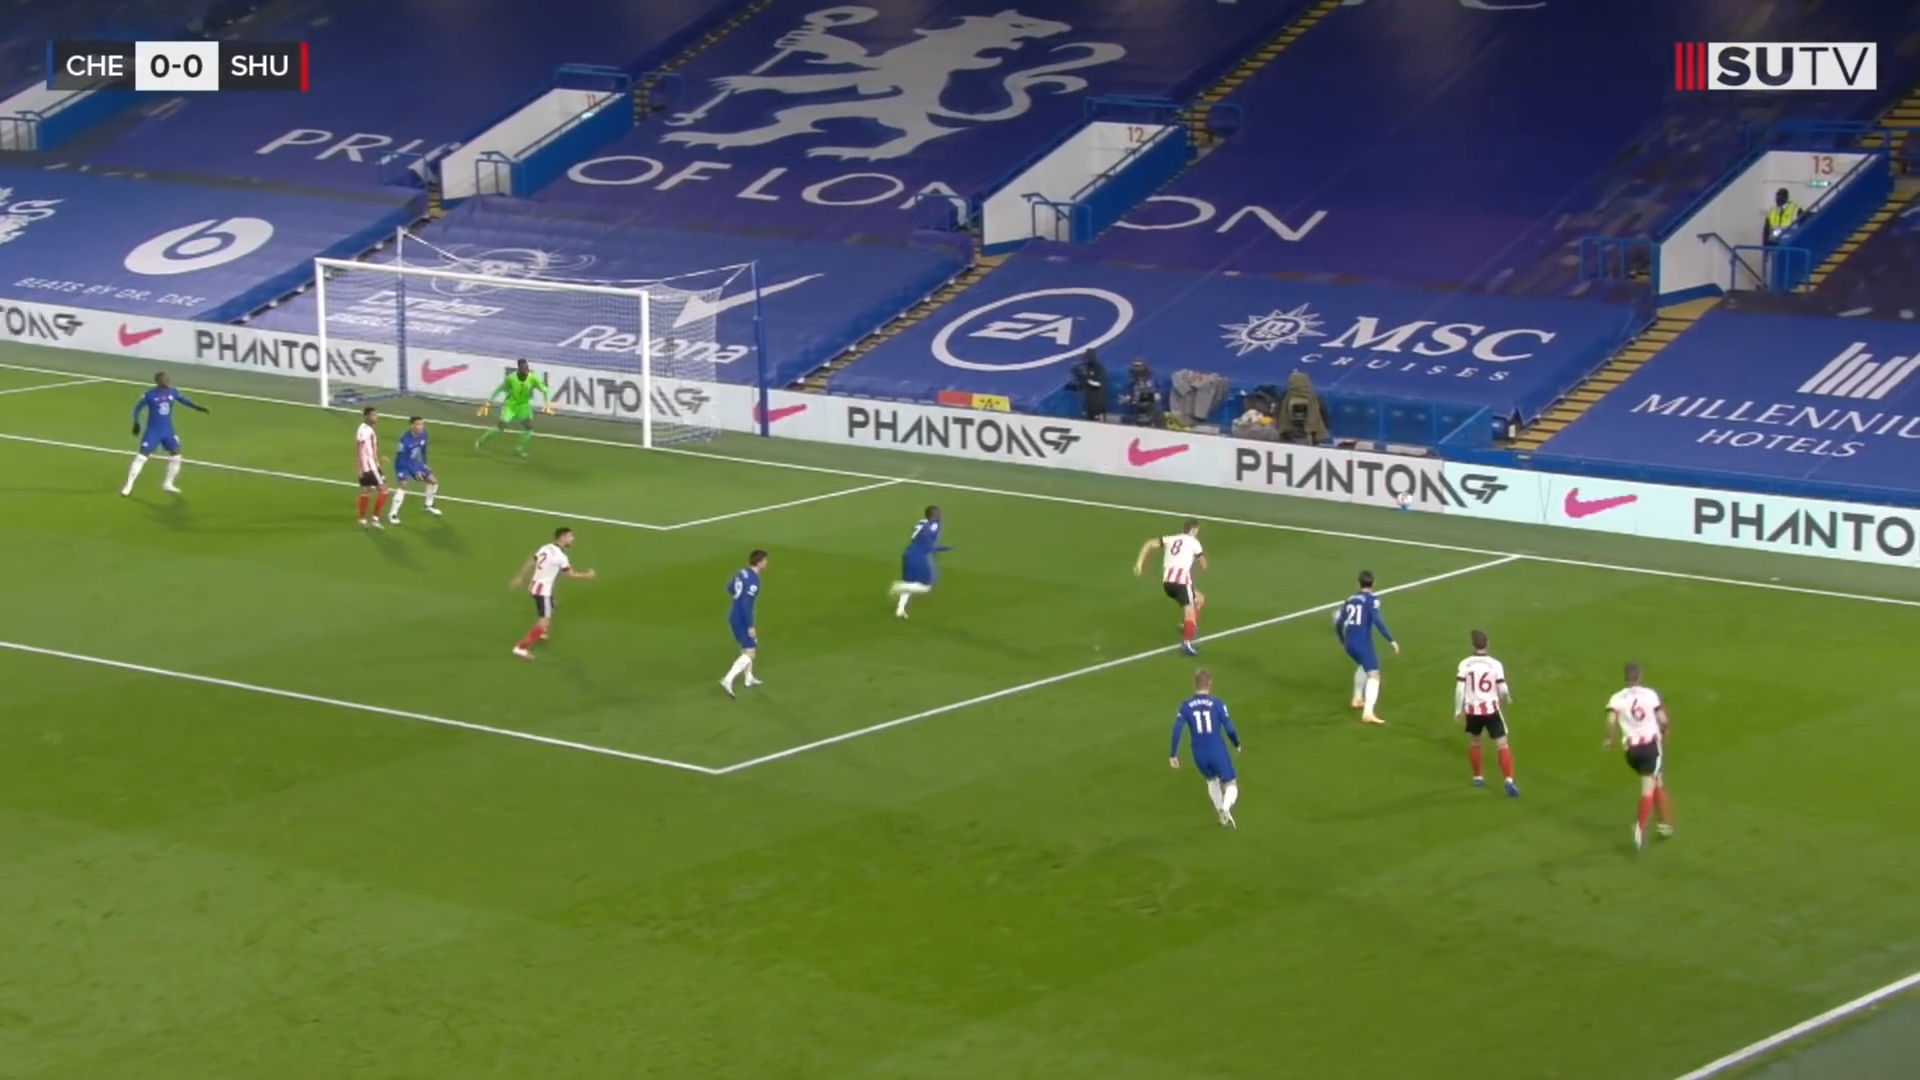Player: (1598, 651, 1686, 850), (1166, 651, 1257, 835), (1314, 557, 1405, 732), (107, 360, 213, 506), (1448, 618, 1528, 802), (505, 516, 599, 662), (880, 482, 968, 632), (706, 537, 779, 706), (464, 350, 560, 459)
